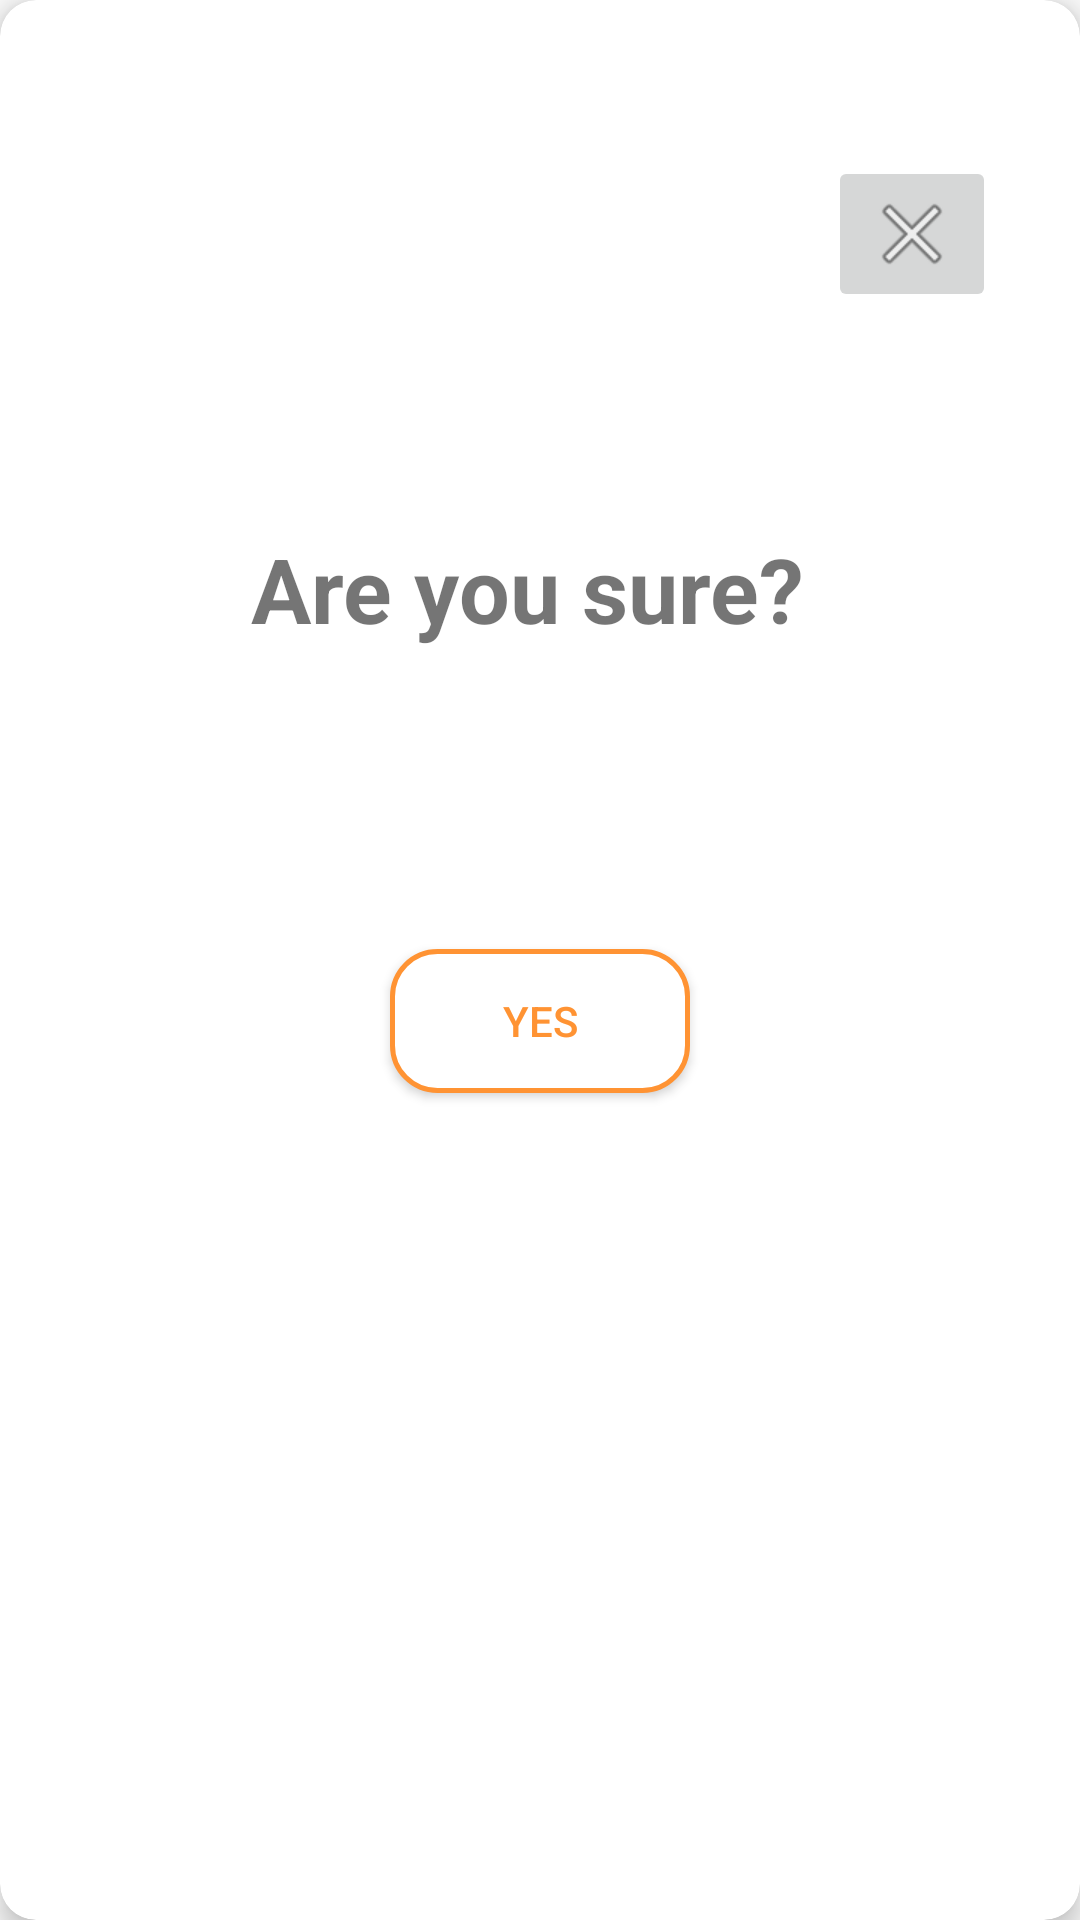

Icons on this 1080px x 1920px Android screen, each with the point to tap as [x,y]:
close clear cancel: [912,234]
